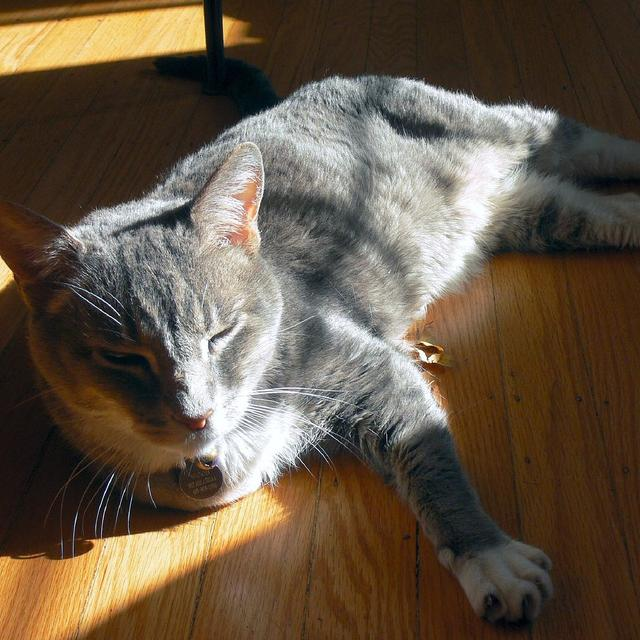animals: (0, 143, 259, 428)
